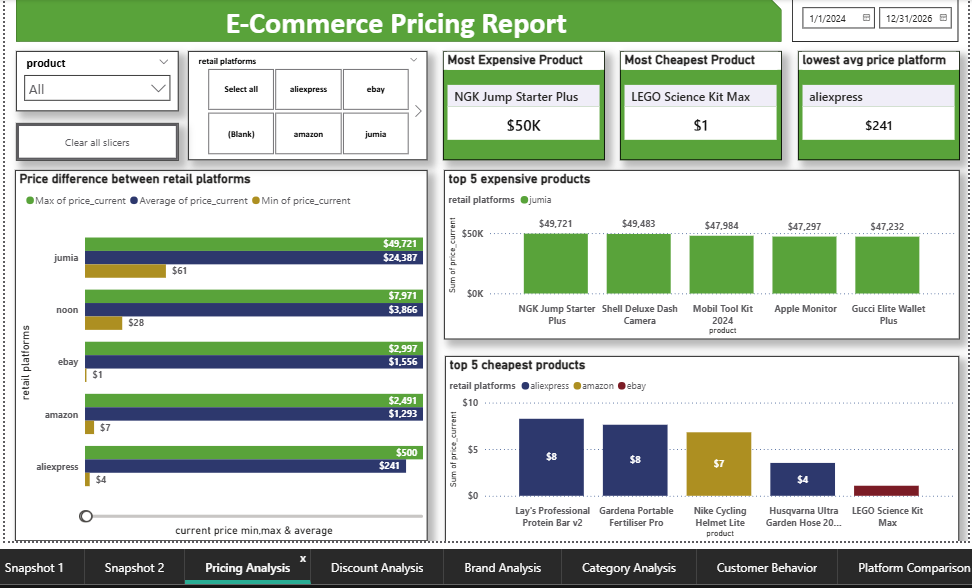

The dashboard page shown, as its layout file describes it:
{"tool":"powerbi","page":{"name":"Pricing Analysis","canvas":[1280,720],"ordinal":2},"visuals":[{"type":"clusteredBarChart","title":"Price difference between retail platforms","fields":{"Category":["ecommerce_dataset.retail platforms"],"Y":["Max(ecommerce_dataset.price_current)","Avg(ecommerce_dataset.price_current)","Min(ecommerce_dataset.price_current)"]},"box":[13.4,227.1,548.2,492.9],"z":0},{"type":"cardVisual","title":"Most Cheapest Product","fields":{"Rows":["ecommerce_dataset.product"],"Data":["Sum(ecommerce_dataset.price_current)"]},"box":[817.6,69.7,214.5,144.8],"z":1000},{"type":"cardVisual","title":"Most Expensive Product","fields":{"Data":["Sum(ecommerce_dataset.price_current)"],"Rows":["ecommerce_dataset.product"]},"box":[582.2,69.7,214.5,144.8],"z":2000},{"type":"cardVisual","title":"lowest avg price platform","fields":{"Rows":["ecommerce_dataset.retail platforms"],"Data":["Avg(ecommerce_dataset.price_current)"]},"box":[1053,69.7,214.5,144.8],"z":3000},{"type":"shape","box":[14.9,0,1017.3,56.8],"z":4000},{"type":"slicer","fields":{"Values":["ecommerce_dataset.product"]},"box":[14.3,69.7,216.3,80.4],"z":5000},{"type":"slicer","fields":{"Values":["ecommerce_dataset.retail platforms"]},"box":[243.1,69.7,318.2,144.8],"z":6000},{"type":"actionButton","box":[14.3,164.5,216.3,50.1],"z":7000},{"type":"clusteredColumnChart","title":"top 5 expensive products","fields":{"Category":["ecommerce_dataset.product"],"Series":["ecommerce_dataset.retail platforms"],"Y":["Sum(ecommerce_dataset.price_current)"]},"box":[583.7,227.4,684.5,225.1],"z":8000},{"type":"columnChart","title":"top 5 cheapest products","fields":{"Category":["ecommerce_dataset.product"],"Series":["ecommerce_dataset.retail platforms"],"Y":["Sum(ecommerce_dataset.price_current)"]},"box":[584.6,473.7,682.9,246.7],"z":9000},{"type":"slicer","fields":{"Values":["Date Table.Date"]},"box":[1045.6,0,221.1,56.8],"z":10000}]}

Visuals, with their boxes in screenshot pixels (x1, y1, x2, y2):
"Price difference between retail platforms" clusteredBarChart: box=[15, 170, 426, 539]
"Most Cheapest Product" cardVisual: box=[617, 52, 778, 161]
"Most Expensive Product" cardVisual: box=[441, 52, 602, 161]
"lowest avg price platform" cardVisual: box=[794, 52, 954, 161]
shape: box=[16, 0, 778, 43]
slicer - ecommerce_dataset.product: box=[16, 52, 178, 112]
slicer - ecommerce_dataset.retail platforms: box=[187, 52, 425, 161]
actionButton: box=[16, 123, 178, 161]
"top 5 expensive products" clusteredColumnChart: box=[442, 170, 955, 339]
"top 5 cheapest products" columnChart: box=[443, 355, 954, 539]
slicer - Date Table.Date: box=[788, 0, 954, 43]
